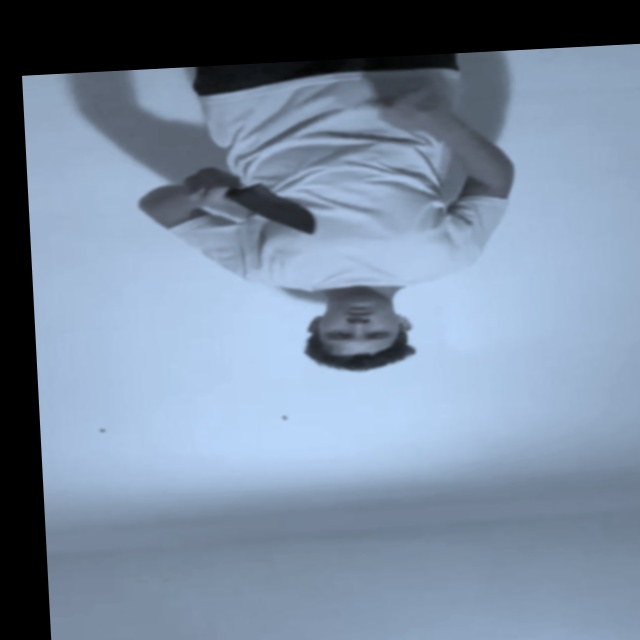Sharp-Object: (243, 185, 319, 239)
